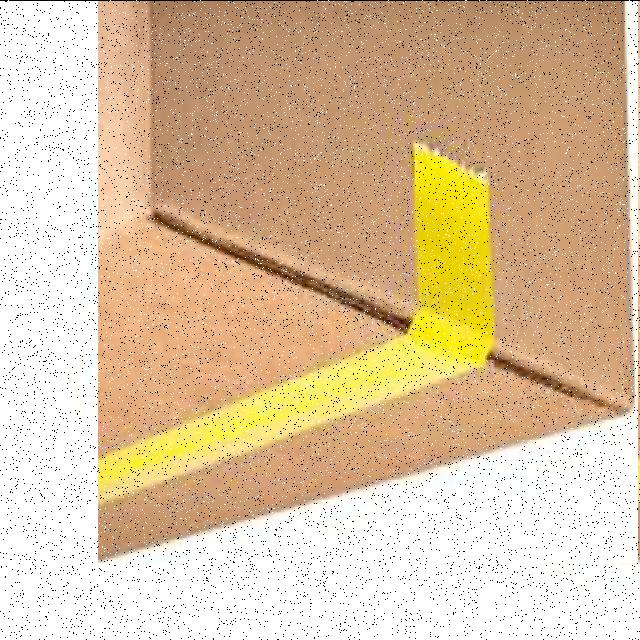normal: (99, 0, 638, 562)
